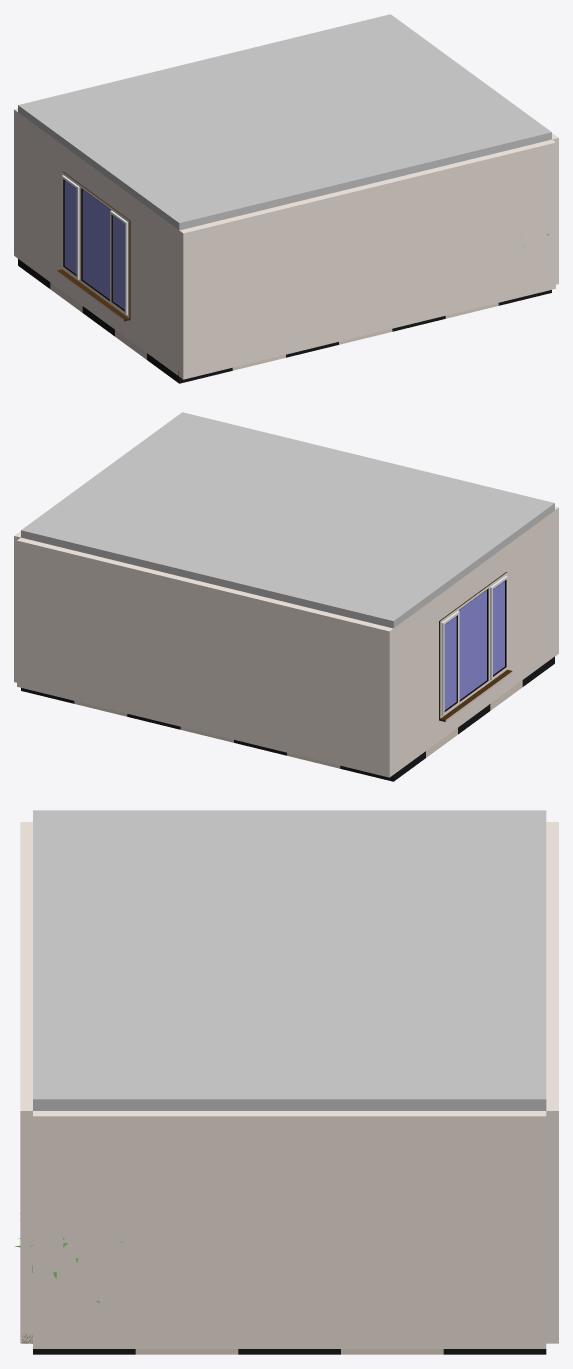
Rendered from hackit_room4.fbx.
The picture shows the model from 3 angles, top to bottom: view 1: azimuth 30°, elevation 25°; view 2: azimuth 150°, elevation 25°; view 3: azimuth 270°, elevation 25°; orthographic projection. The views are drawn at different scales.
Visible parts, largest first — view 1: 部屋全体; view 2: 部屋全体; view 3: 部屋全体.
Part boxes in pixels (bbox=[...]): 部屋全体: bbox=[14, 14, 558, 383]; 部屋全体: bbox=[14, 412, 558, 781]; 部屋全体: bbox=[20, 810, 558, 1354].
Bounding box in the file's own units: 8.38 × 3.29 × 6.37.
